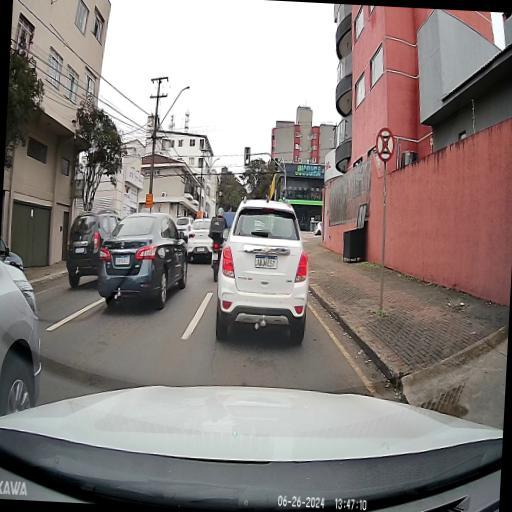R-6c: (374, 127, 396, 162)
